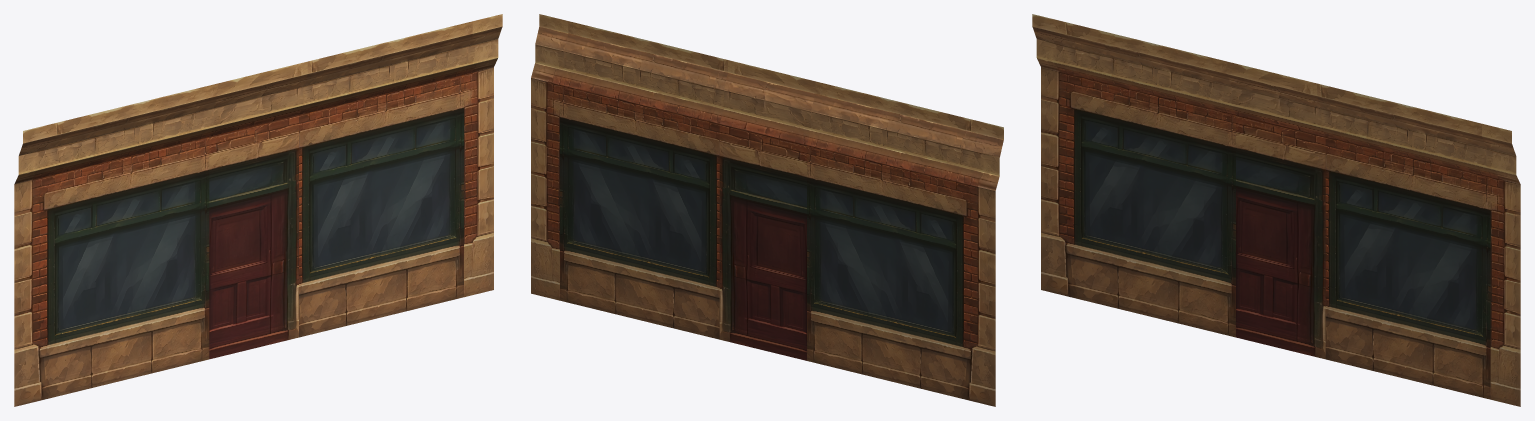
The model's file is BRK_G_Bay8B.fbx.
The picture shows the model from 3 angles, left to right: view 1: azimuth 30°, elevation 25°; view 2: azimuth 150°, elevation 25°; view 3: azimuth 330°, elevation 25°; orthographic projection. The views are drawn at different scales.
Visible parts, largest first — view 1: BRK_G_Bay8B; view 2: BRK_G_Bay8B; view 3: BRK_G_Bay8B.
Boxes of the visible parts, <box> form: BRK_G_Bay8B: <box>14,14,502,406</box>; BRK_G_Bay8B: <box>531,14,1003,406</box>; BRK_G_Bay8B: <box>1032,14,1520,406</box>.
Bounding box in the file's own units: 8 × 0.25 × 4.5.
Materials: 1 (1 with a texture image).
